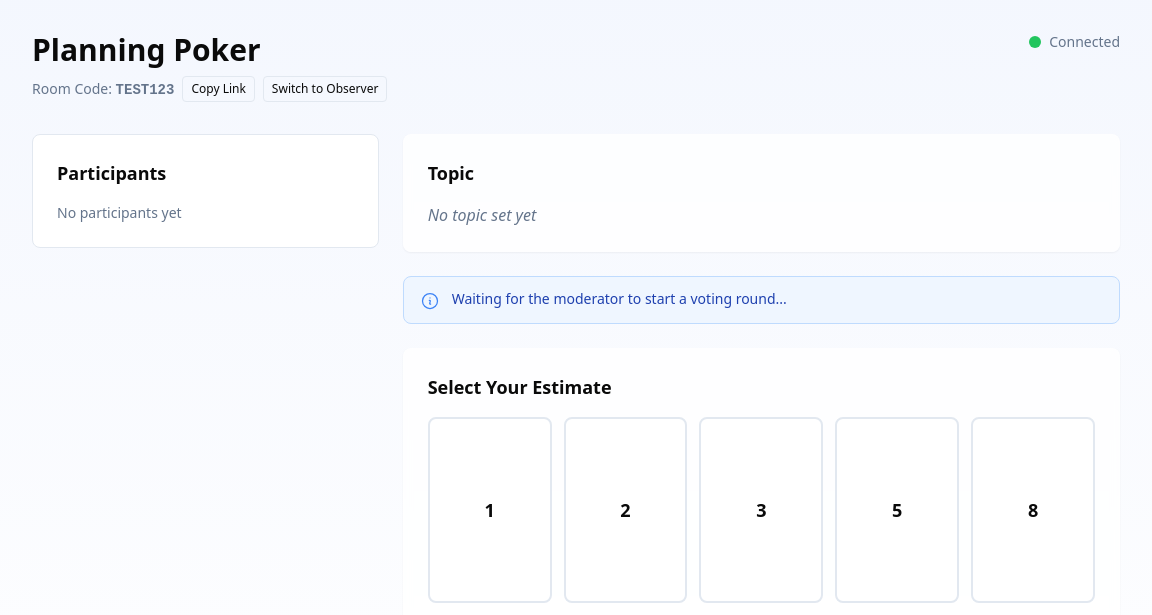
Test: SessionPage › should copy link and show 'Copied!' feedback
Click the button "Copy Link": (219, 89) [182,76,255,102]
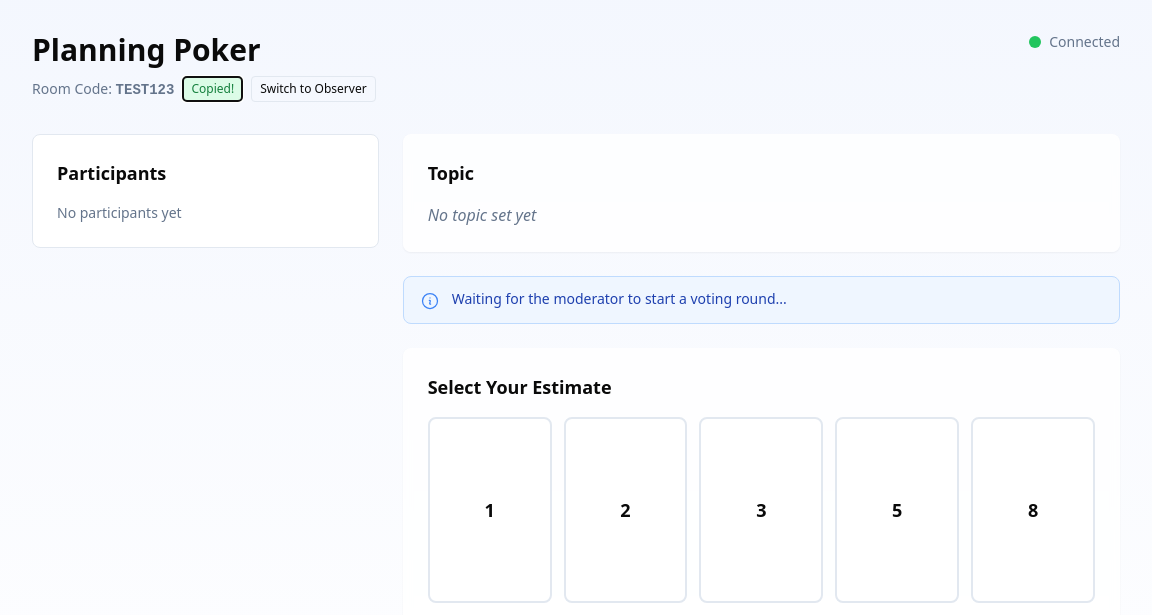
Now the button "Copied!" is shown, box [182,76,243,102]
